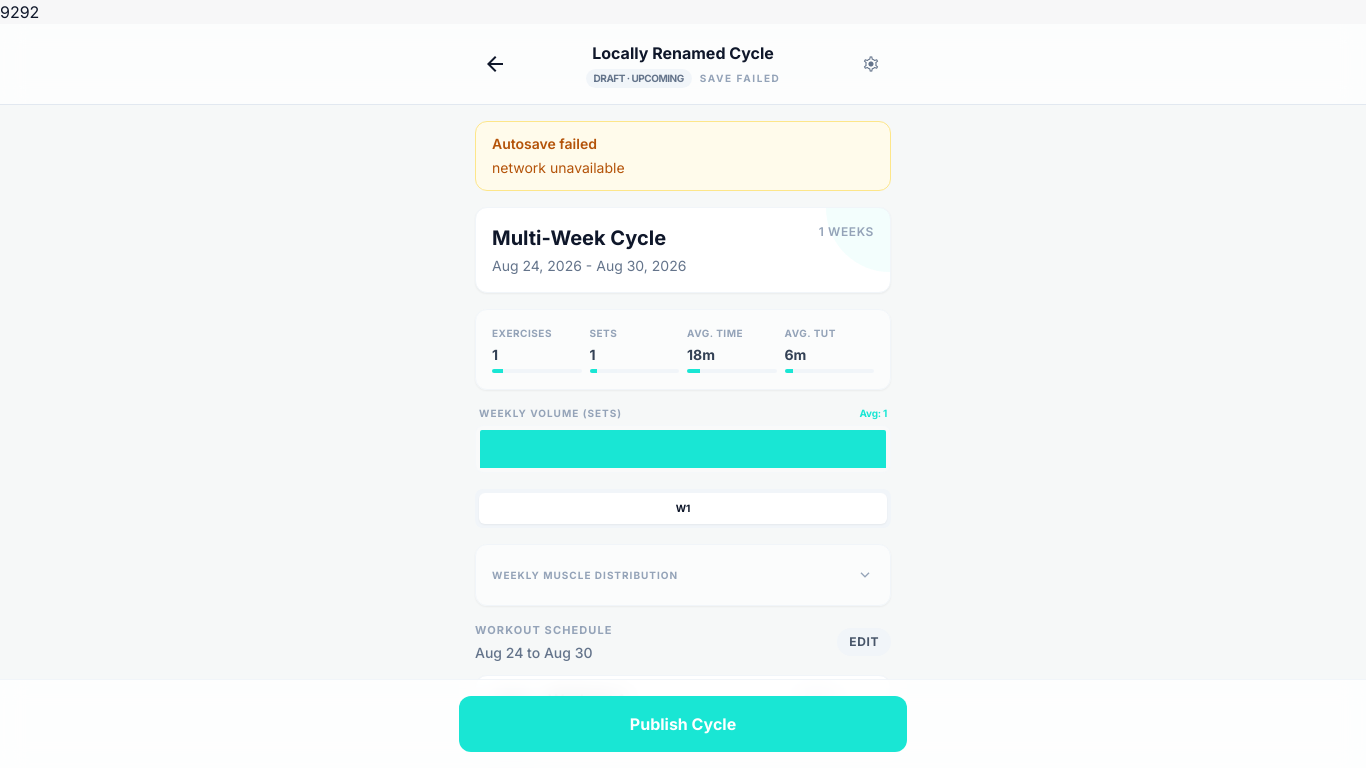
Test case: ManualBuilderMulti workout terminal-action barrier › Save Settings blocks a generic structural error after flushing healthy workout content
Expected: the button "Publish Cycle" is shown, [459,696,907,752]
Click the button named "Open cycle settings".
click(871, 64)  # box [851,44,891,84]
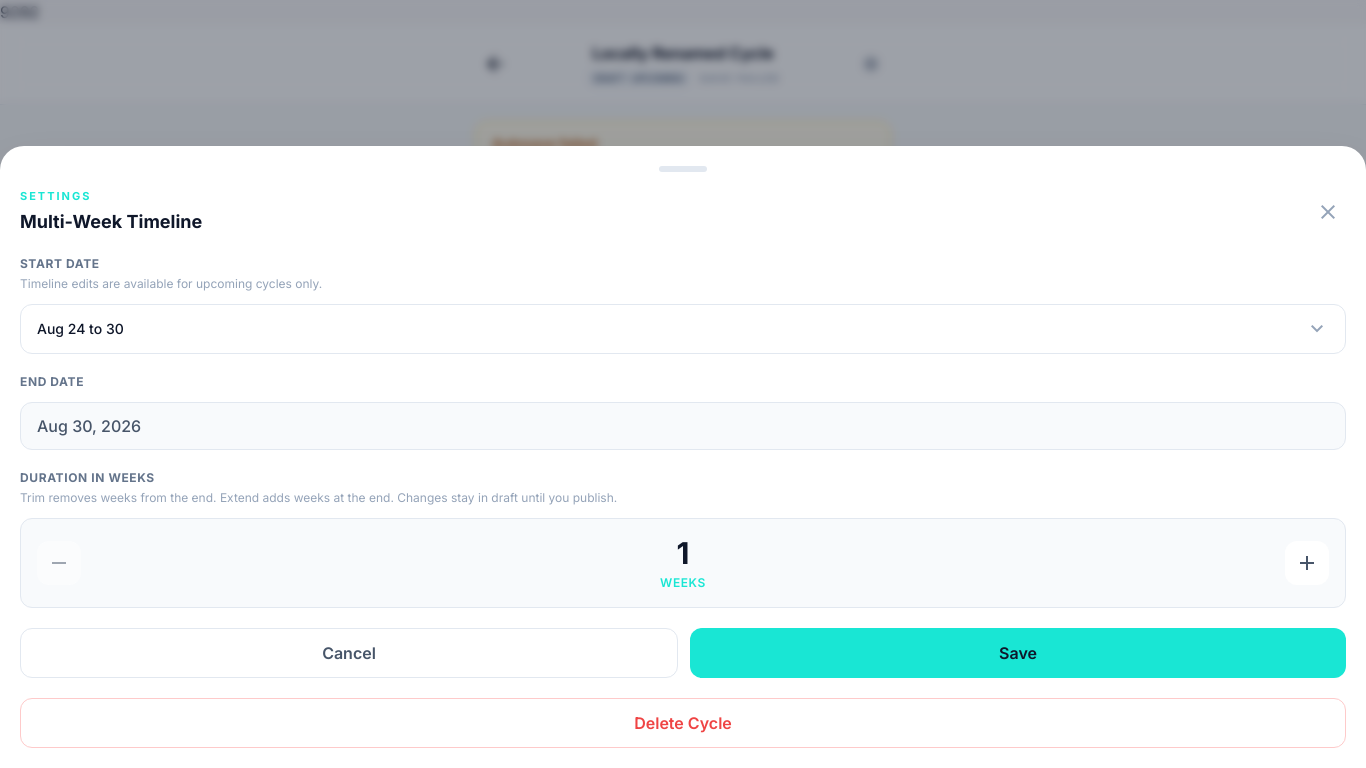
Click the button "Save".
click(1018, 653)  # box [690,628,1346,678]
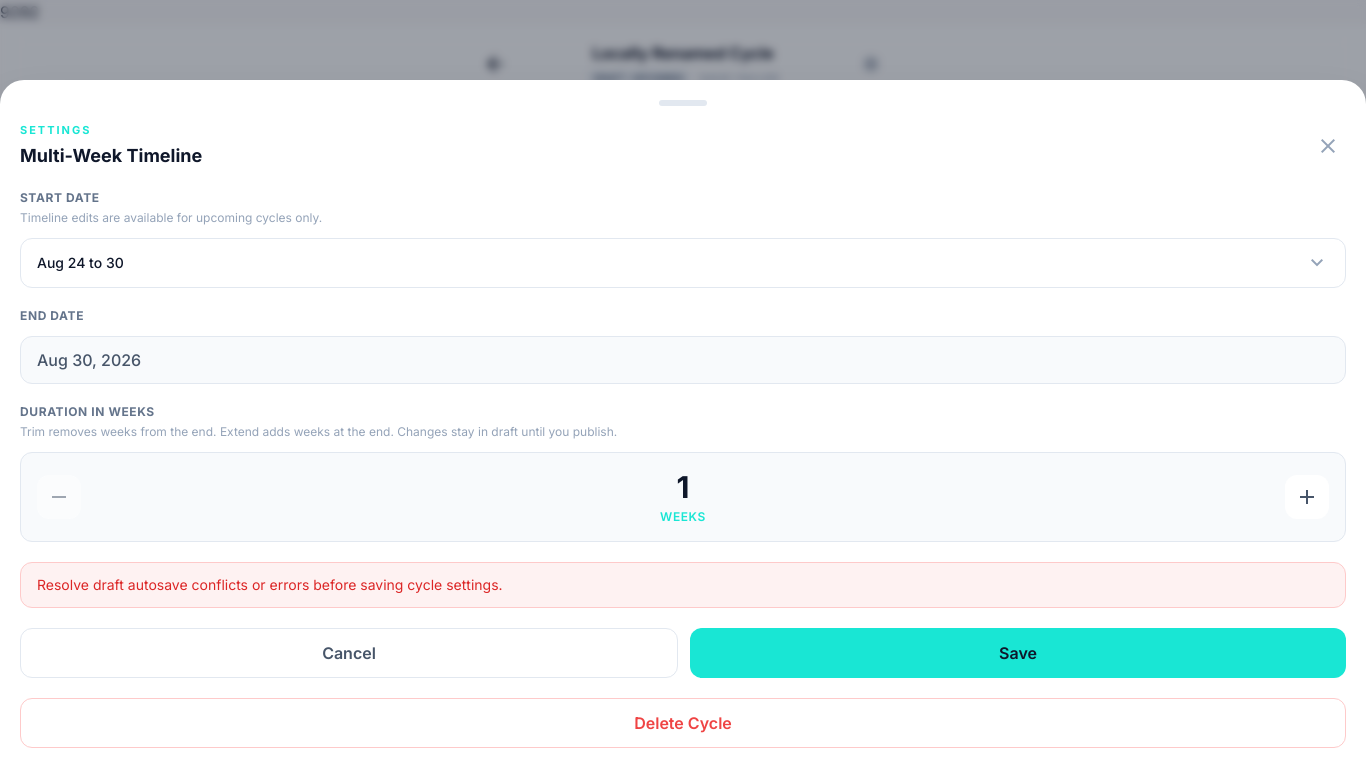
Expected: the heading "Locally Renamed Cycle" reads "Locally Renamed Cycle", [592,42,774,62]
Expected: the button "Save" is enabled, [690,628,1346,678]
Expected: the text "Resolve draft autosave conflicts or errors before saving cycle settings." is shown, [20,562,1346,608]
